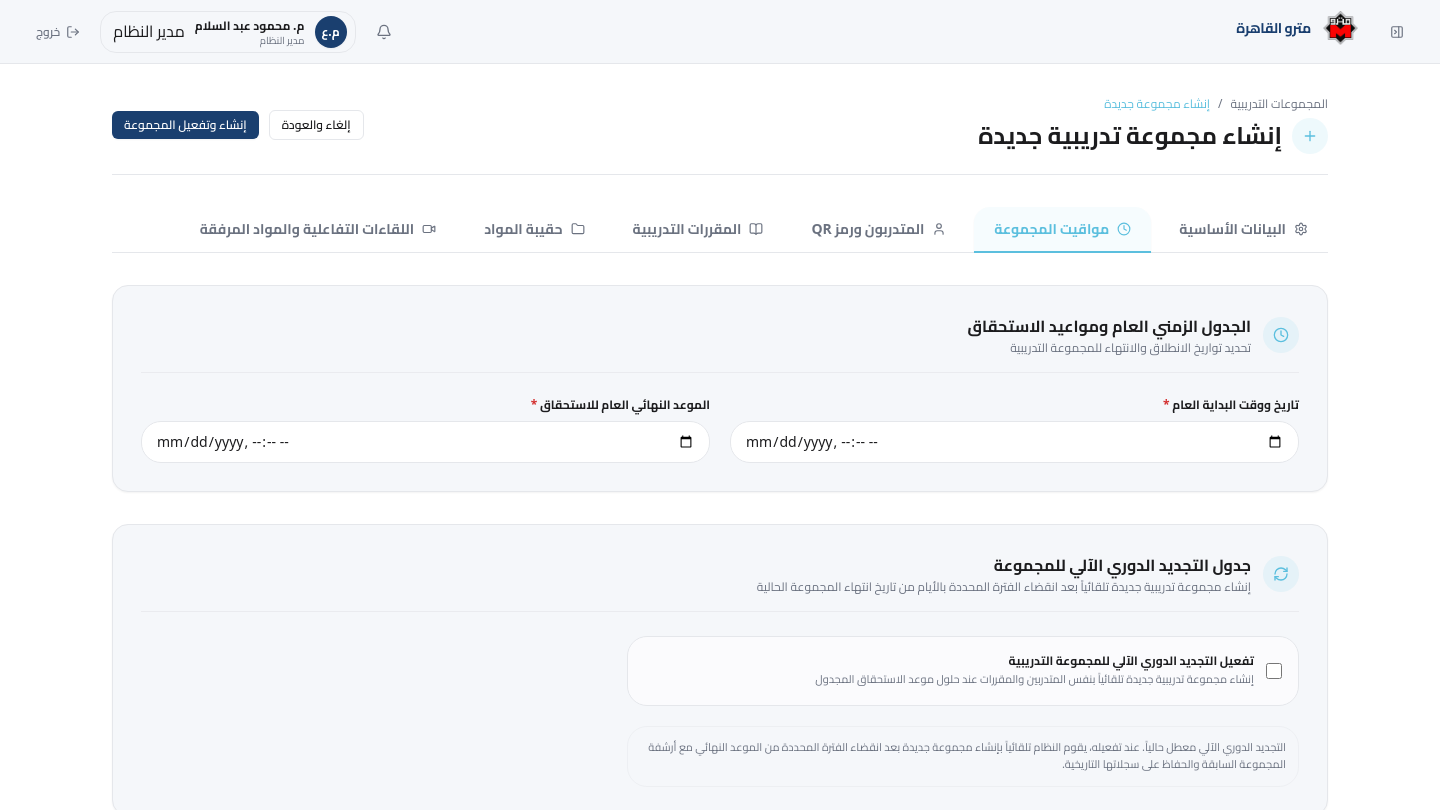
Custom Day-Based Automatic Group Renewal › 5. UI Integration & Form Validation (GroupEditorPage) › custom input updates numeric field and recalculates live preview
Click the checkbox with test id "auto-renewal-toggle": (1274, 671) left=1266, top=663, right=1282, bottom=679
(page scrolled)
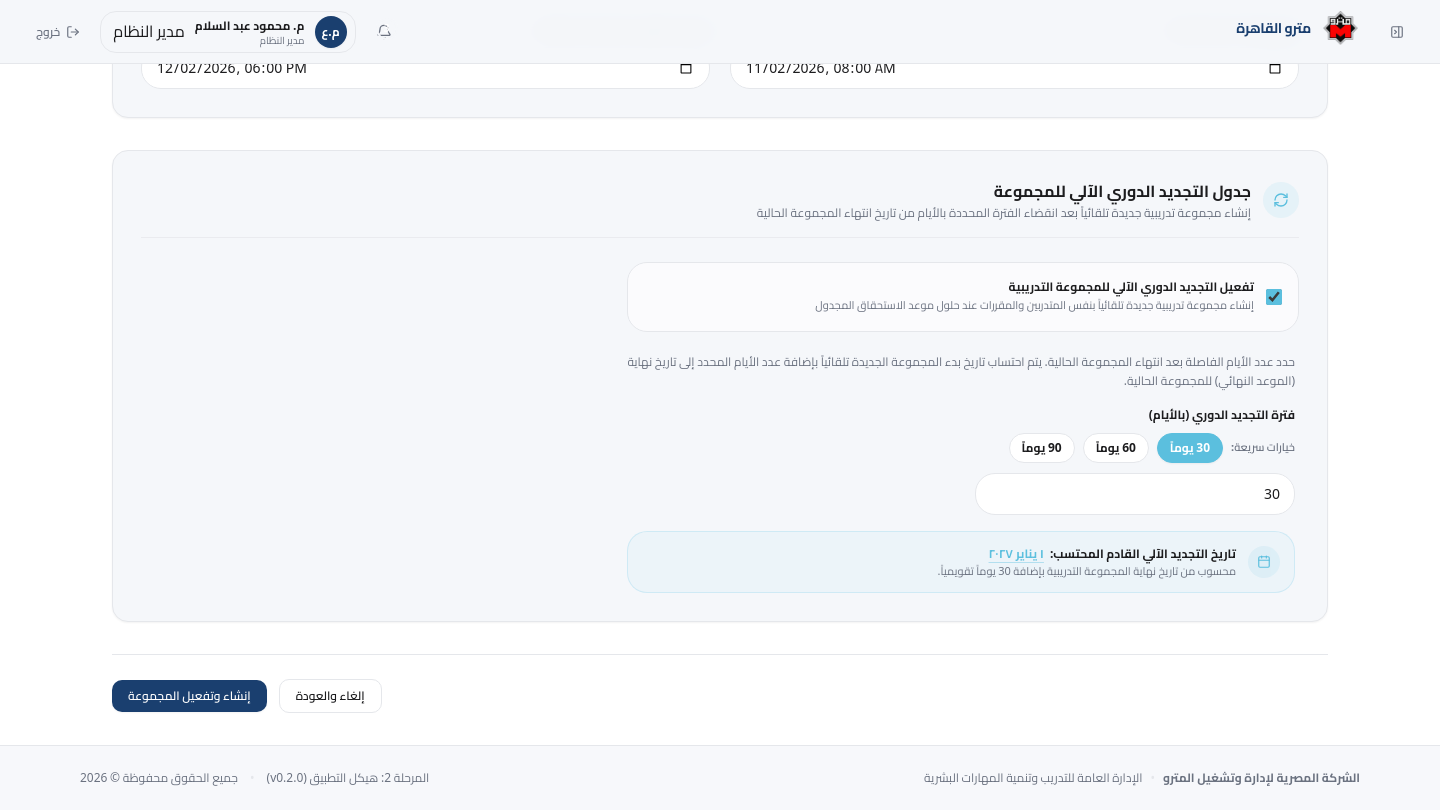
// Type custom interval: 45
Replace the text in the number field with test id "renewal-interval-days-input" with "45": (1135, 494) left=975, top=473, right=1295, bottom=515
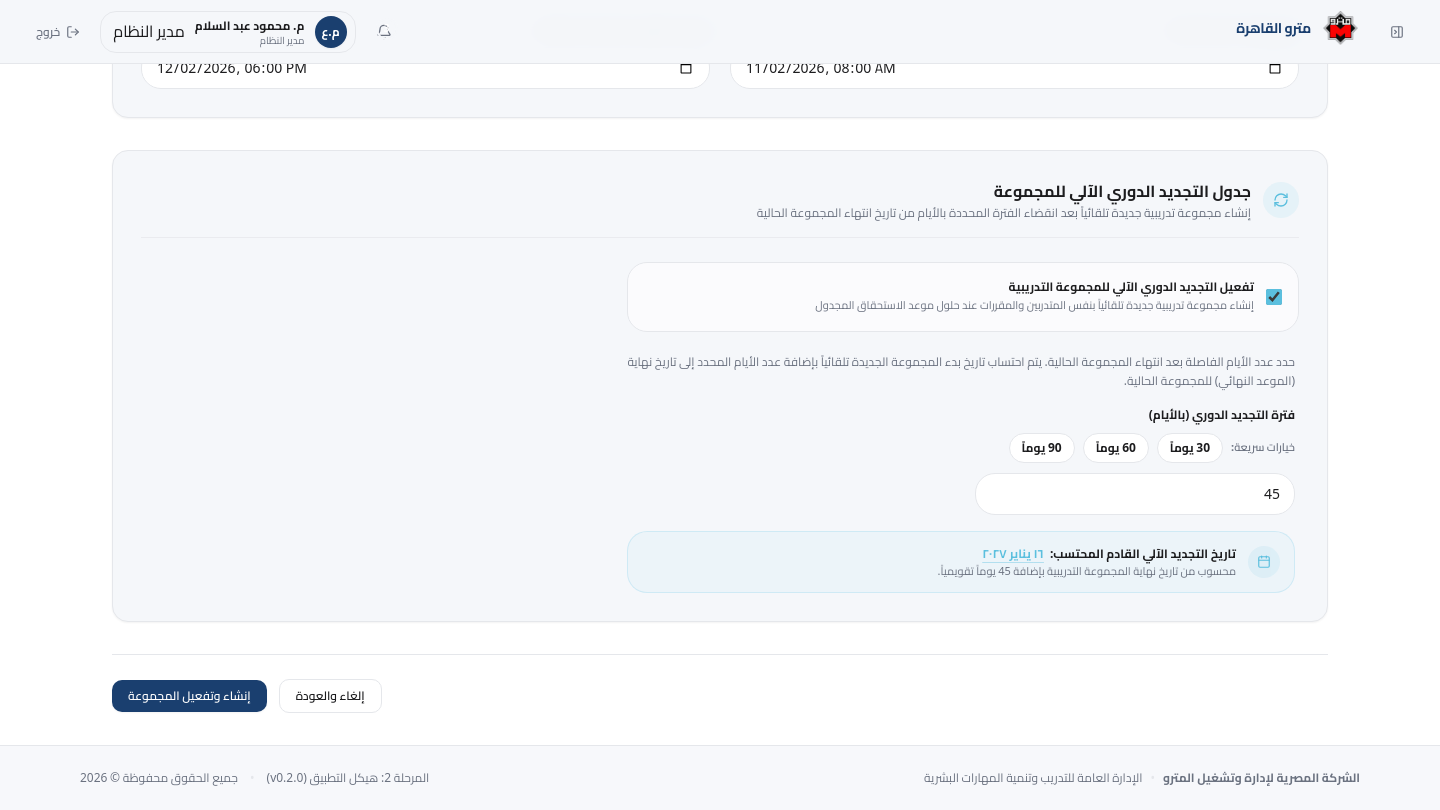
Check: the element with test id "calculated-next-renewal-date-preview" is shown, box left=627, top=531, right=1295, bottom=593
Check: the text "تاريخ التجديد الآلي القادم المحتسب" is shown, box left=1050, top=542, right=1236, bottom=565
Check: the text "45 يوماً" is shown, box left=938, top=564, right=1236, bottom=578
